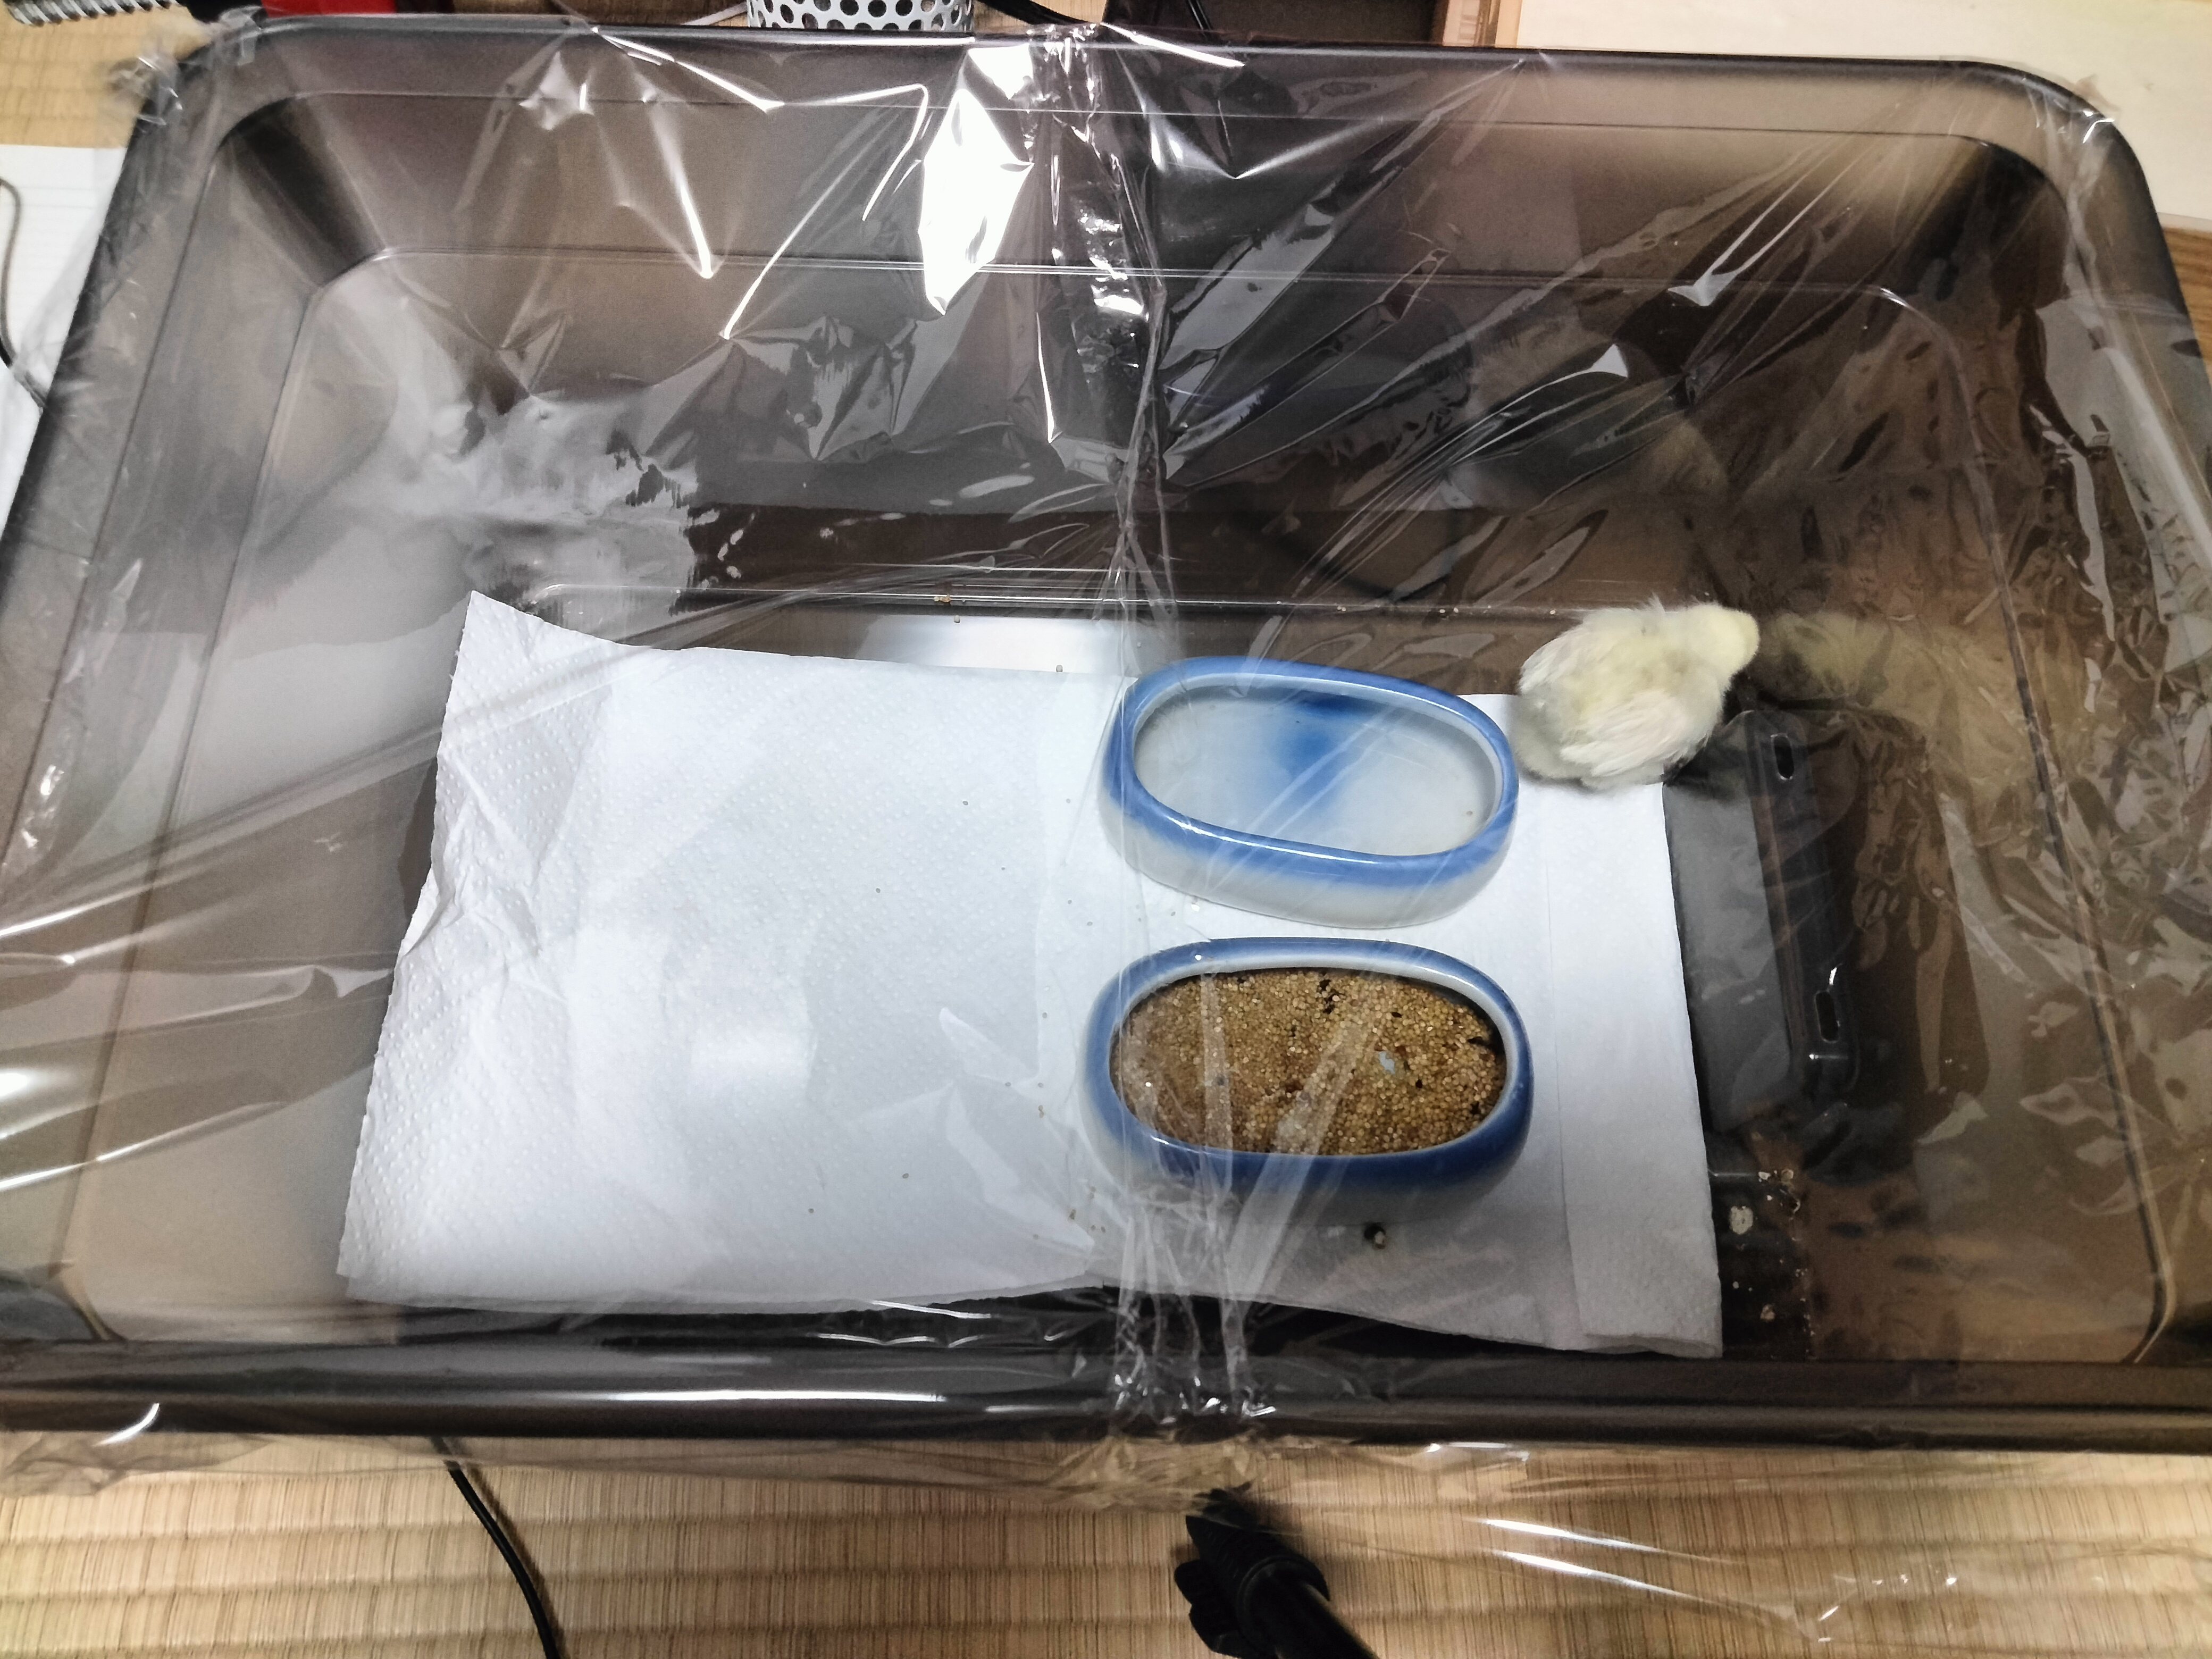shiro: (1494, 554, 1770, 807)
